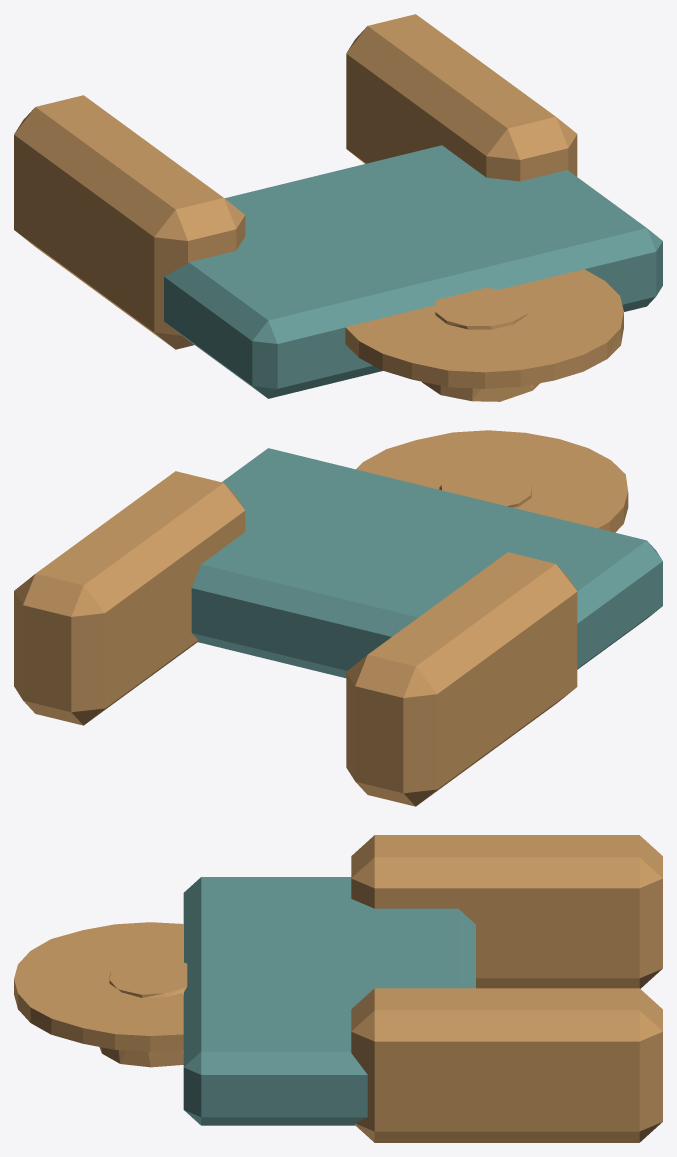
File: cric_sellette.glb
The picture shows the model from 3 angles, top to bottom: view 1: azimuth 30°, elevation 25°; view 2: azimuth 150°, elevation 25°; view 3: azimuth 270°, elevation 25°; orthographic projection. The views are drawn at different scales.
Parts seen in each view (by area): view 1: Pont de la fourche, Griffe, Griffe.001, Sellette du cric; view 2: Pont de la fourche, Griffe, Griffe.001, Sellette du cric; view 3: Pont de la fourche, Griffe.001, Griffe, Sellette du cric.
Part boxes in pixels (<box>): Pont de la fourche: <box>164,145,662,398</box>; Griffe: <box>14,95,245,349</box>; Griffe.001: <box>346,14,577,181</box>; Sellette du cric: <box>345,269,623,401</box>; Pont de la fourche: <box>191,448,662,678</box>; Griffe: <box>346,552,577,806</box>; Griffe.001: <box>14,471,245,725</box>; Sellette du cric: <box>356,430,628,532</box>; Pont de la fourche: <box>183,877,475,1125</box>; Griffe.001: <box>351,988,662,1142</box>; Griffe: <box>351,835,662,988</box>; Sellette du cric: <box>14,922,187,1067</box>.
Bounding box in the file's own units: 0.237 × 0.075 × 0.3331.
